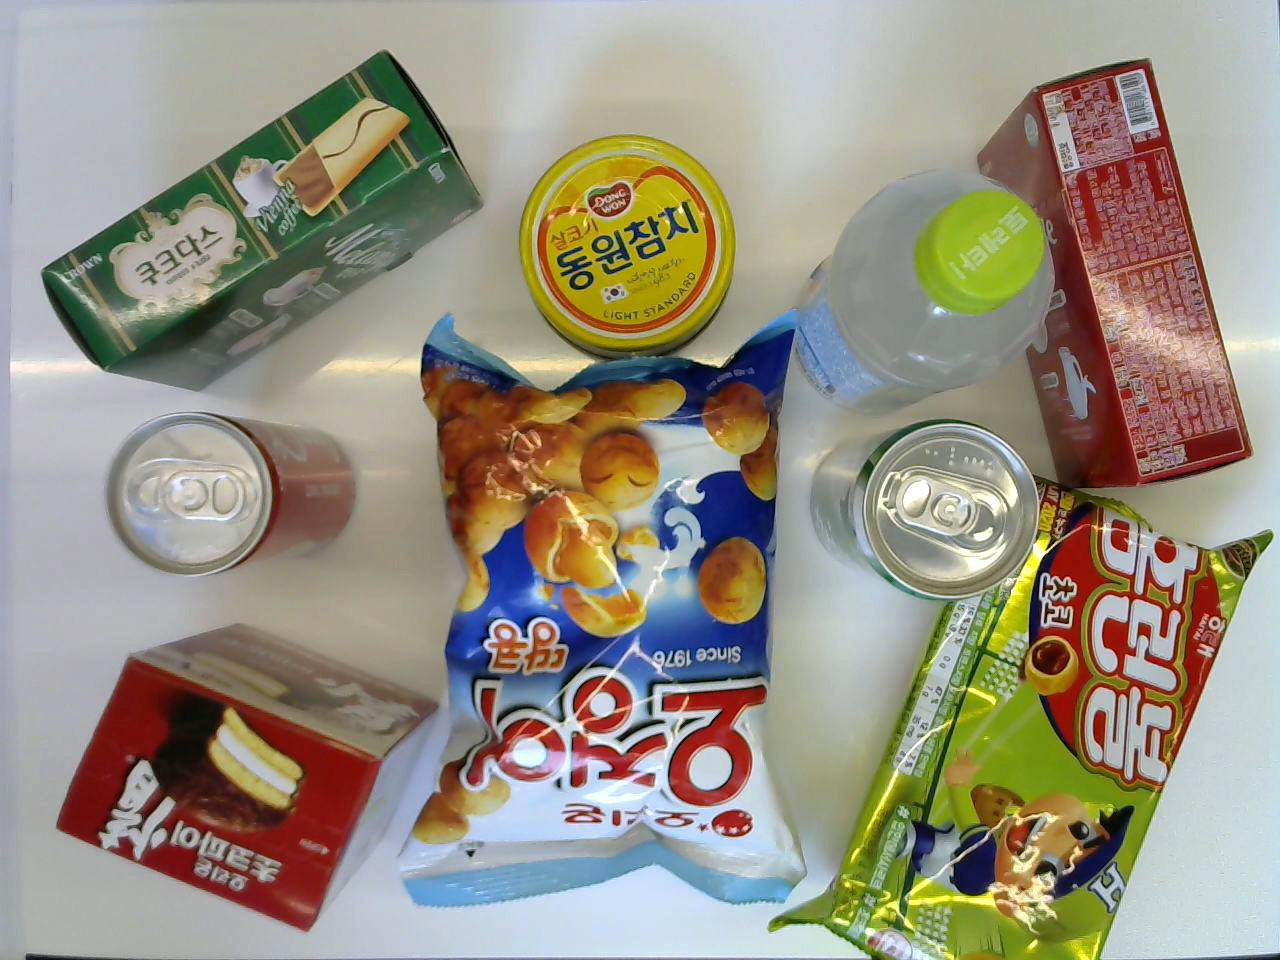chocopie: (38, 602, 447, 942)
cidar: (804, 412, 1049, 606)
coke: (103, 411, 358, 579)
couque_coffee: (31, 41, 487, 398)
couque_white: (965, 50, 1255, 490)
homerunball: (759, 461, 1272, 960)
squid_peanut: (401, 301, 813, 922)
toreta: (777, 166, 1056, 415)
tuna: (513, 128, 736, 366)
